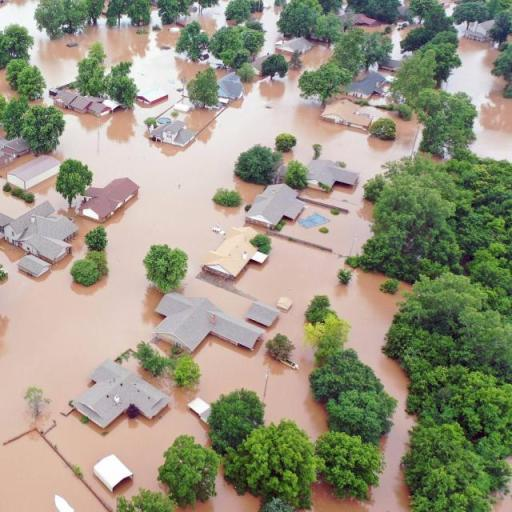flood: (0, 0, 423, 512), (446, 38, 512, 160), (183, 478, 260, 512), (0, 154, 34, 217), (254, 0, 281, 53), (191, 1, 225, 33), (391, 25, 410, 57), (0, 70, 15, 98), (366, 24, 387, 31), (42, 91, 52, 104)
house: (68, 358, 174, 432), (157, 294, 268, 358), (12, 208, 77, 264), (200, 229, 263, 281), (243, 185, 305, 232), (80, 176, 138, 222), (4, 153, 62, 199), (90, 452, 136, 504), (302, 160, 360, 194), (54, 88, 126, 114), (320, 97, 372, 132), (148, 121, 196, 149), (134, 88, 178, 118), (0, 136, 31, 167), (214, 72, 245, 102), (279, 35, 315, 55)
